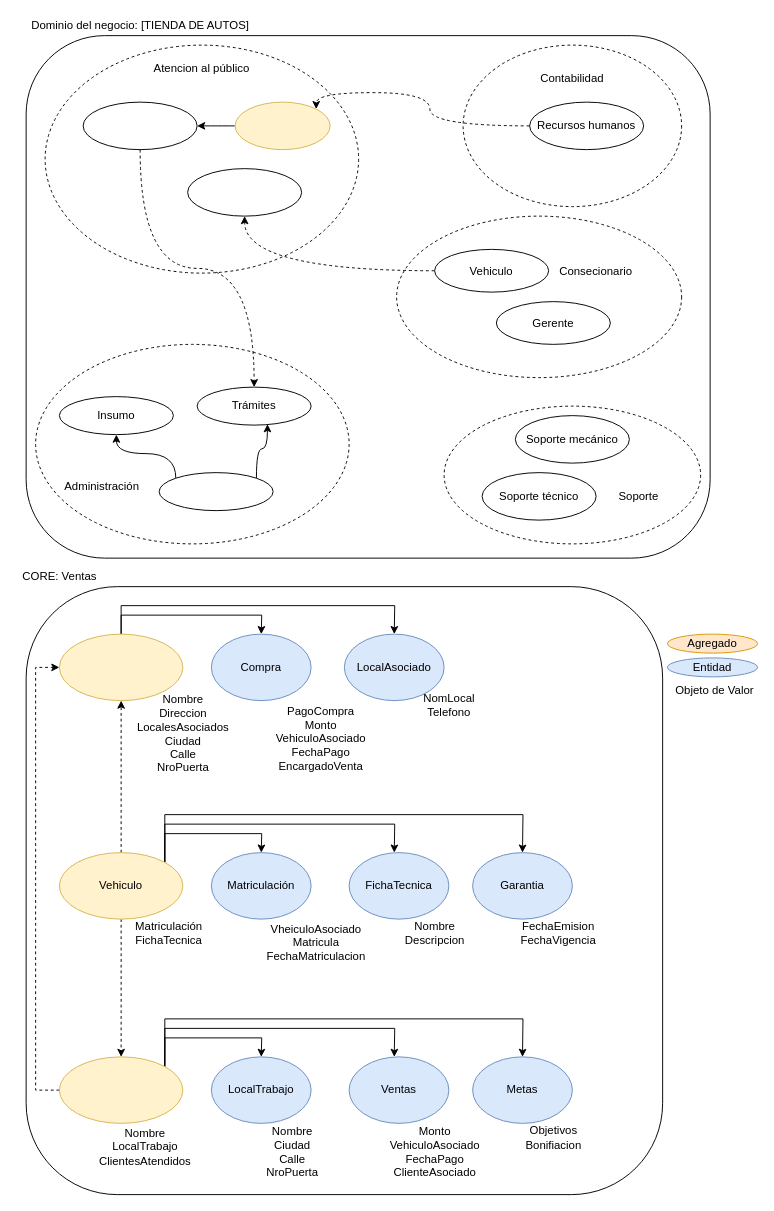
The diagram is 774 pixels wide and 1211 high, and some of its shapes have lost their labels. The centre of each missing label's shape, as x and y in pixels:
Administrativo: [215,491]
Cliente: [120,667]
EncargadoVenta: [120,1089]
Servicio al cliente: [139,125]
Vehiculos a la venta: [244,192]
Venta: [282,125]
